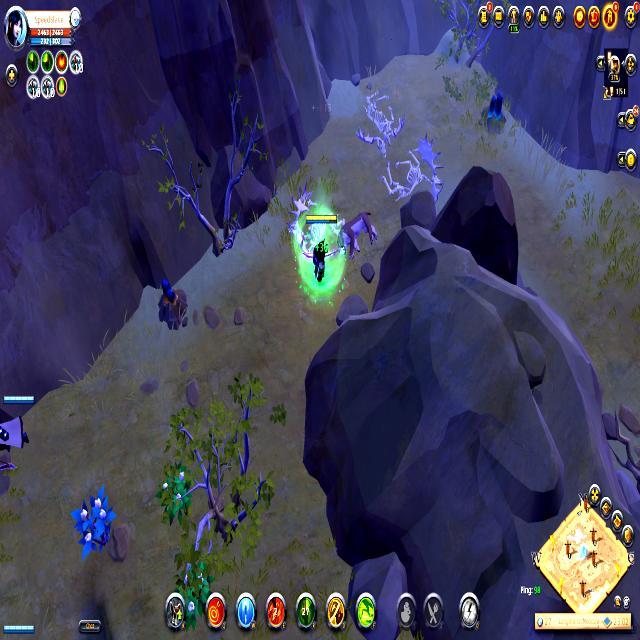hide: (172, 550, 216, 633), (73, 484, 115, 562), (158, 459, 194, 530)
mob: (330, 204, 383, 261)
player: (477, 82, 512, 141), (154, 274, 190, 330)
red: (0, 387, 41, 480), (301, 210, 338, 292), (1, 620, 38, 639)
